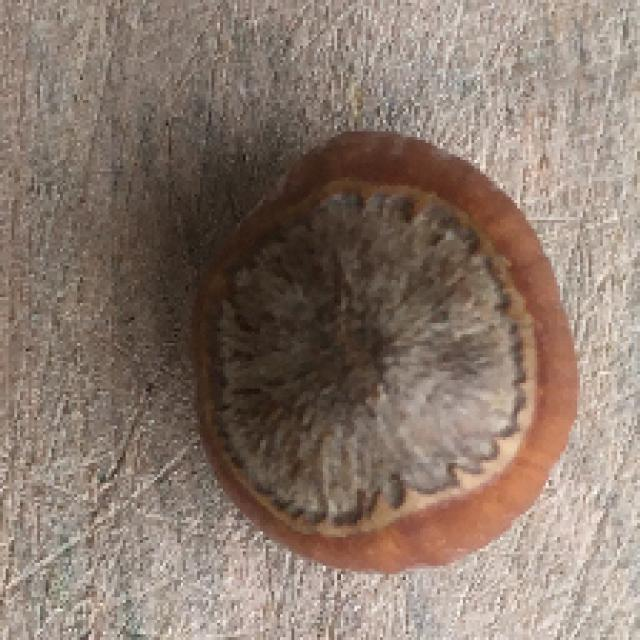damagedHazelnut: (189, 122, 594, 569)
